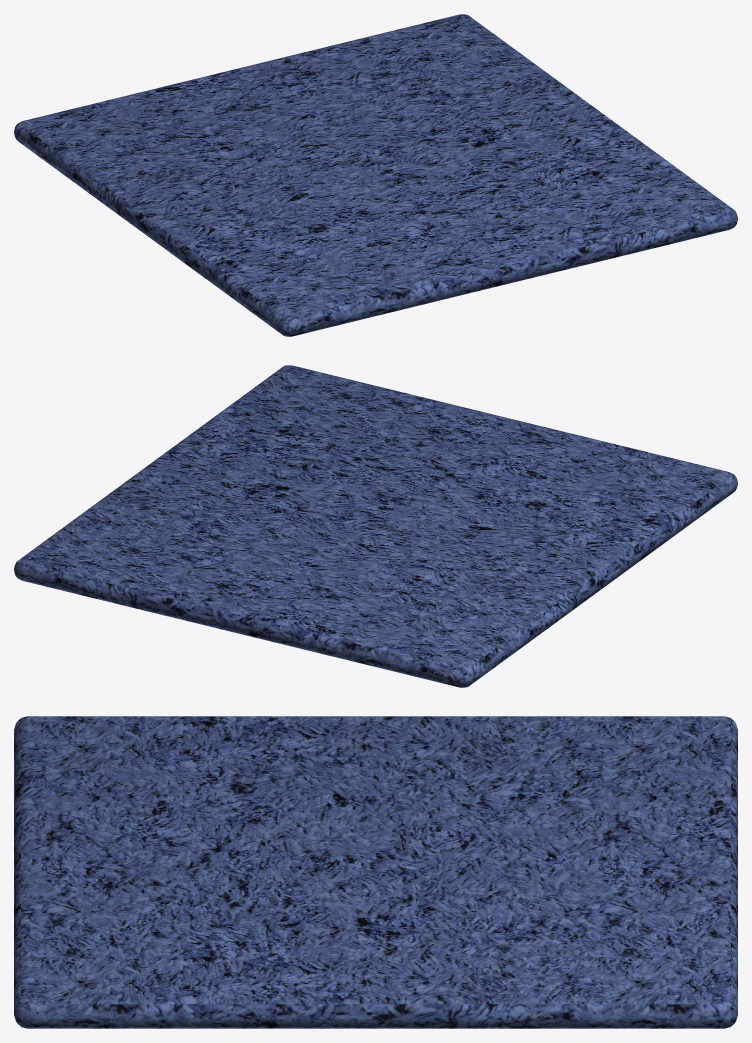
The model's file is rec4hP6AmocHdMb25.glb.
The picture shows the model from 3 angles, top to bottom: view 1: azimuth 30°, elevation 25°; view 2: azimuth 150°, elevation 25°; view 3: azimuth 270°, elevation 25°; orthographic projection. The views are drawn at different scales.
Visible parts, largest first — view 1: tapis_bain_douche_Corps; view 2: tapis_bain_douche_Corps; view 3: tapis_bain_douche_Corps.
Boxes of the visible parts, box(x1,y1,x2,y2) form: tapis_bain_douche_Corps: box(14, 14, 737, 336); tapis_bain_douche_Corps: box(14, 365, 737, 687); tapis_bain_douche_Corps: box(14, 716, 737, 1028).
Bounding box in the file's own units: 0.5 × 0.022 × 0.52.
1 material, 1 textured.
